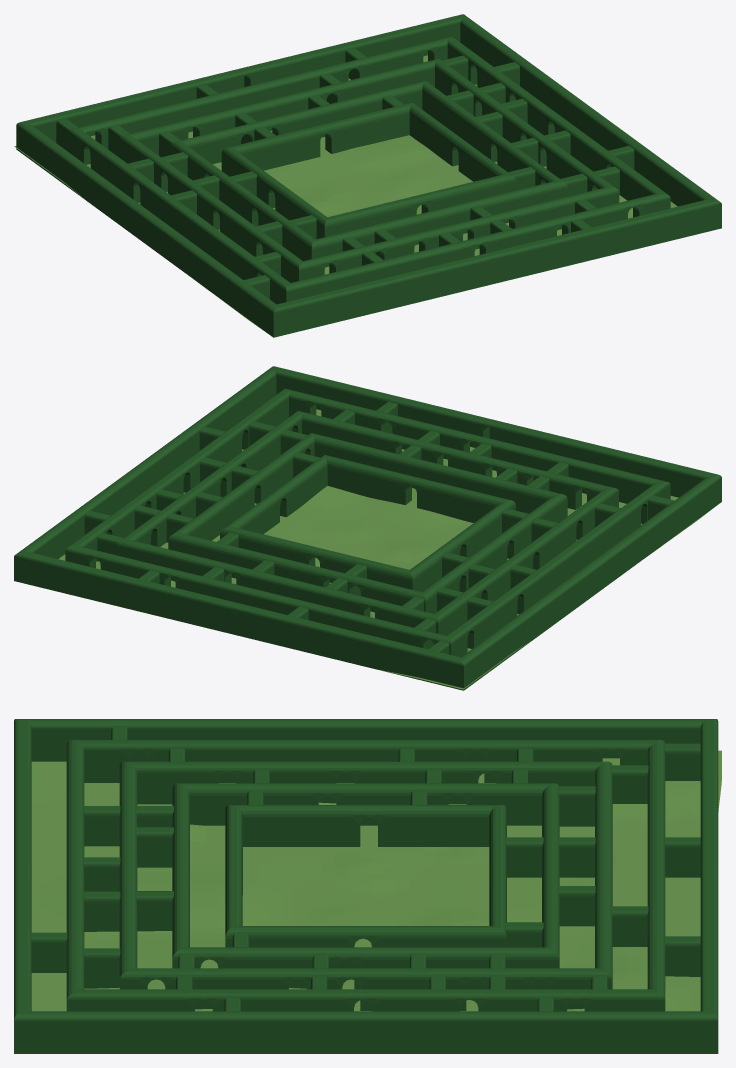
The model's file is Maze 15.fbx.
3 renders of one model, top to bottom at view 1: azimuth 30°, elevation 25°; view 2: azimuth 150°, elevation 25°; view 3: azimuth 270°, elevation 25°, orthographic. The views are drawn at different scales.
Visible parts, largest first — view 1: Walls 1.015, Walls 2.015, Walls 3.015, Walls 4.016, Walls 5.015, Floor.016; view 2: Walls 1.015, Walls 2.015, Walls 3.015, Walls 4.016, Walls 5.015, Floor.016; view 3: Walls 1.015, Floor.016, Walls 2.015, Walls 3.015, Walls 4.016, Walls 5.015, Bush Blocker.466, Bush Blocker.470, Bush Blocker.462, Bush Blocker.469, Bush Blocker.472, Bush Blocker.456 (+12 smaller).
Boxes of the visible parts, left/top/right/bottom form: Walls 1.015: left=16, top=14, right=721, bottom=337; Walls 2.015: left=67, top=36, right=670, bottom=304; Walls 3.015: left=119, top=58, right=619, bottom=282; Walls 4.016: left=170, top=80, right=567, bottom=267; Walls 5.015: left=221, top=102, right=516, bottom=238; Floor.016: left=14, top=55, right=677, bottom=331; Walls 1.015: left=14, top=366, right=721, bottom=690; Walls 2.015: left=65, top=388, right=670, bottom=657; Walls 3.015: left=117, top=411, right=618, bottom=635; Walls 4.016: left=168, top=433, right=567, bottom=613; Walls 5.015: left=220, top=455, right=515, bottom=591; Floor.016: left=58, top=409, right=714, bottom=689; Walls 1.015: left=14, top=719, right=718, bottom=1053; Floor.016: left=31, top=750, right=721, bottom=1011; Walls 2.015: left=66, top=740, right=665, bottom=1011; Walls 3.015: left=119, top=761, right=612, bottom=1010; Walls 4.016: left=172, top=783, right=559, bottom=989; Walls 5.015: left=225, top=805, right=506, bottom=968; Bush Blocker.466: left=558, top=837, right=595, bottom=877; Bush Blocker.470: left=558, top=786, right=595, bottom=826; Bush Blocker.462: left=136, top=827, right=173, bottom=867; Bush Blocker.469: left=558, top=886, right=595, bottom=926; Bush Blocker.472: left=611, top=906, right=648, bottom=946; Bush Blocker.456: left=31, top=932, right=67, bottom=972.
Size of the model in its own units: 6009 by 368 by 5992.
